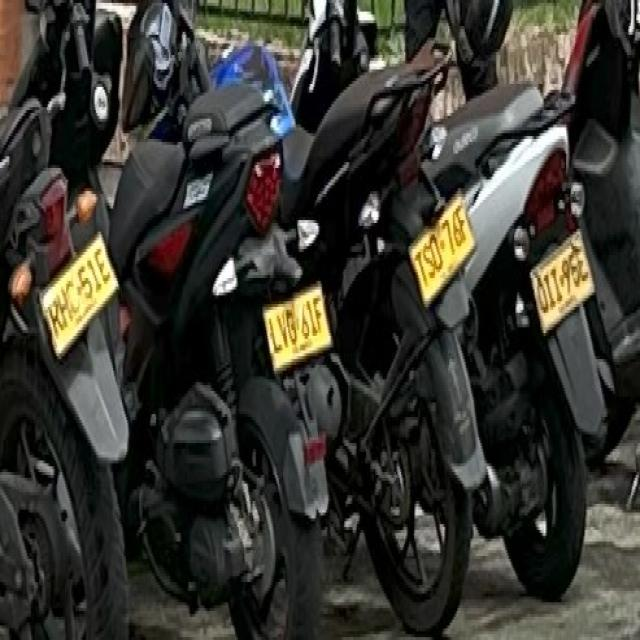number plate: (40, 233, 118, 358), (408, 190, 477, 307), (530, 226, 592, 327), (261, 281, 330, 368)
